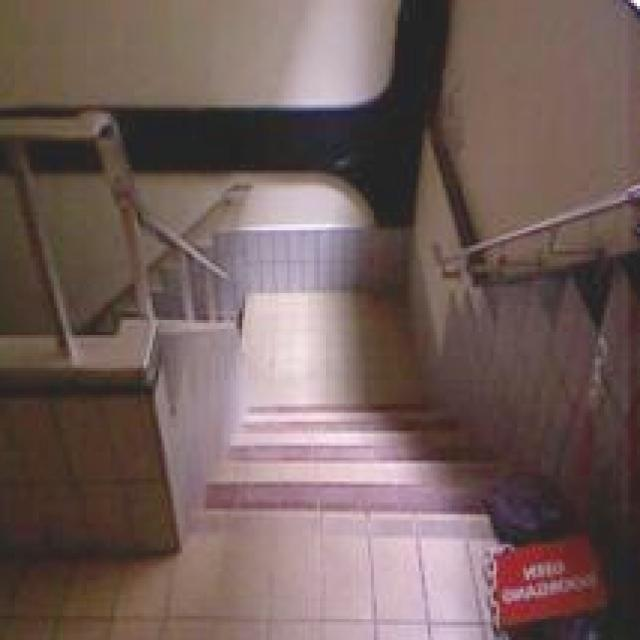downstair: (181, 378, 531, 545)
